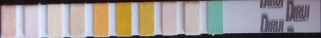color 1: (2, 7, 14, 37)
color 10: (209, 2, 221, 31)
color 2: (25, 7, 37, 35)
color 3: (49, 6, 60, 35)
color 4: (71, 6, 83, 36)
color 5: (94, 5, 107, 35)
color 6: (117, 4, 130, 34)
color 7: (140, 4, 153, 34)
color 8: (163, 4, 175, 34)
color 9: (186, 5, 198, 33)
